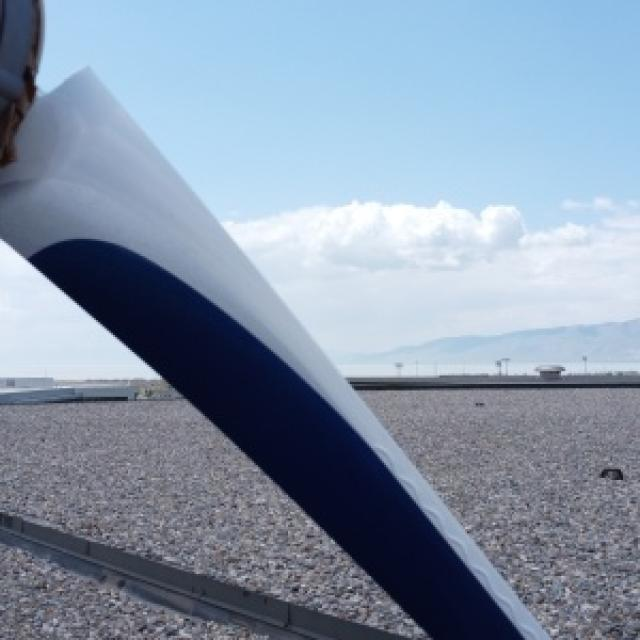healthy: (0, 0, 548, 638), (0, 243, 145, 375)
